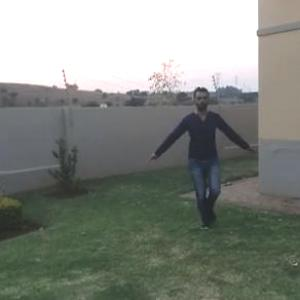land: (147, 88, 246, 216)
